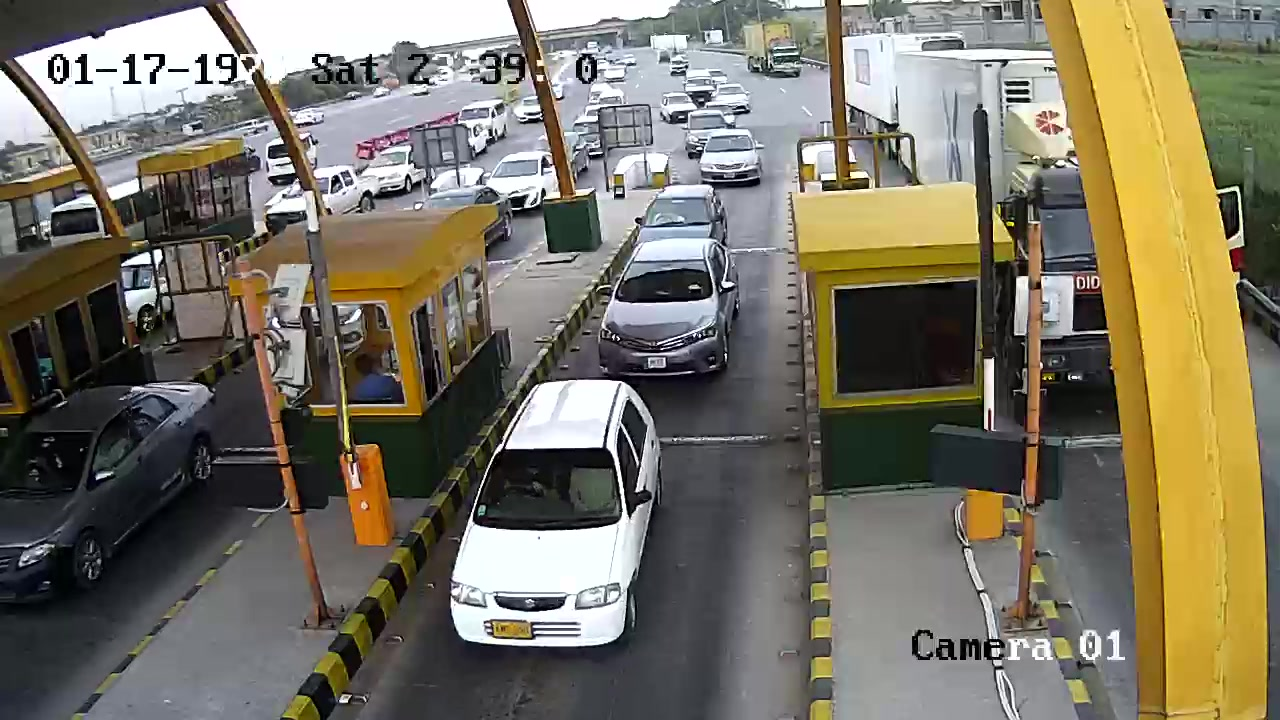F1: (432, 371, 717, 646), (588, 234, 753, 386)
